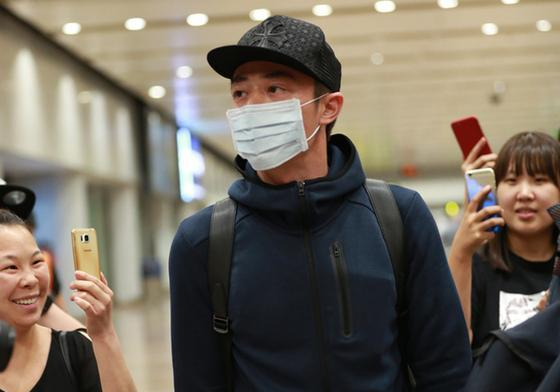mask: (225, 99, 309, 171)
